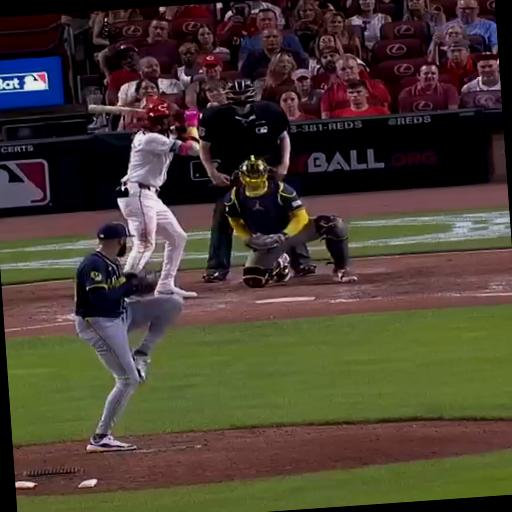bat: (87, 105, 144, 114)
